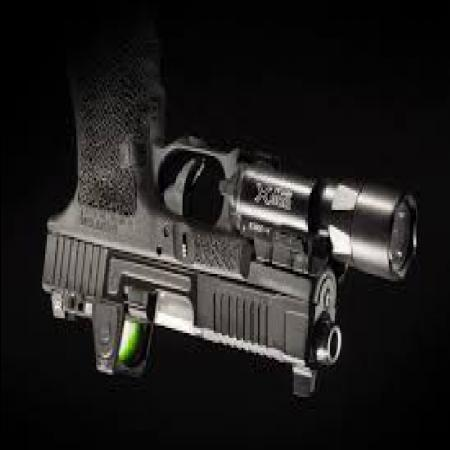Pistol: (40, 7, 418, 406)
